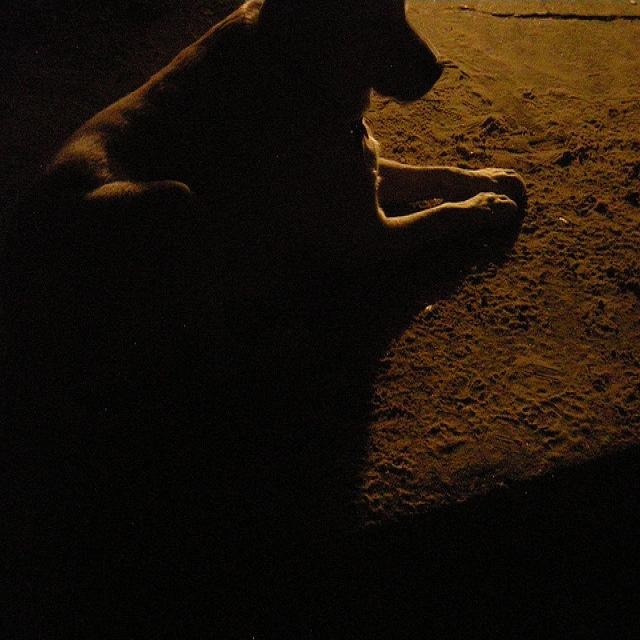Dog: (84, 0, 532, 457)
